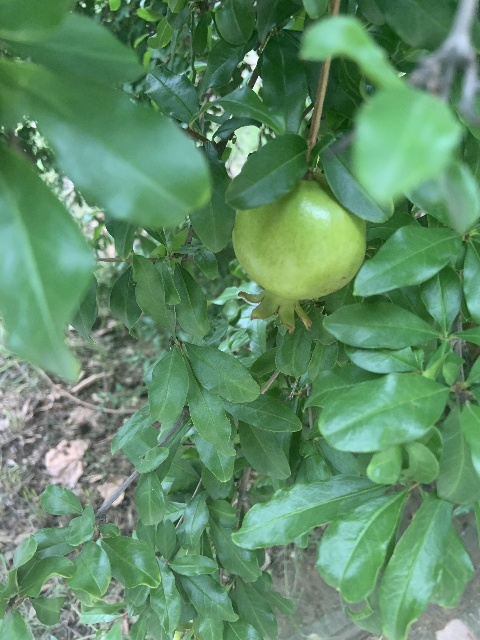mid-growth: (232, 177, 365, 334)
